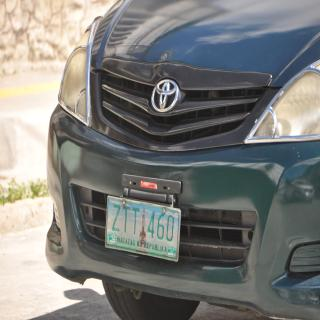license: (106, 197, 182, 263)
